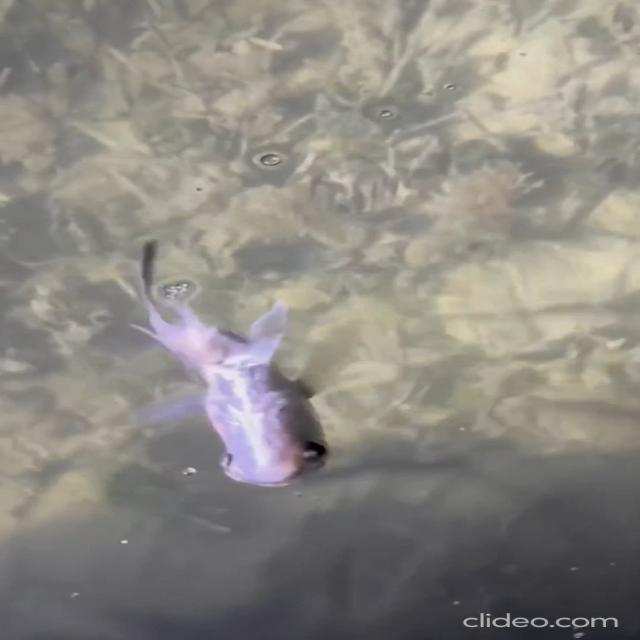fish: (79, 234, 378, 501)
